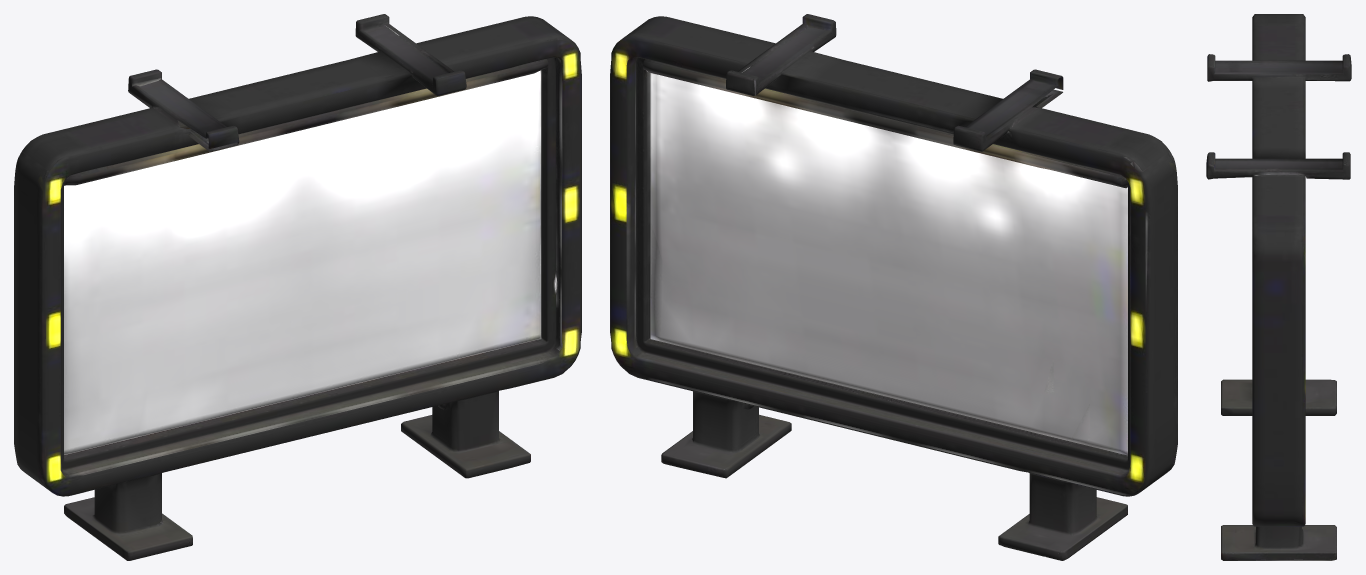
The model's file is billboard.glb.
The picture shows the model from 3 angles, left to right: view 1: azimuth 30°, elevation 25°; view 2: azimuth 150°, elevation 25°; view 3: azimuth 270°, elevation 25°; orthographic projection. The views are drawn at different scales.
Parts seen in each view (by area): view 1: mesh_node; view 2: mesh_node; view 3: mesh_node.
Part boxes in pixels (x1,y1,x2,y2): mesh_node: (14,14,581,560); mesh_node: (610,14,1177,560); mesh_node: (1206,14,1351,560).
Bounding box in the file's own units: 1.91 × 1.4 × 0.5049.
1 material, 1 textured.
